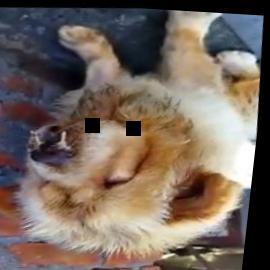nasal_discharge: (27, 124, 77, 162)
